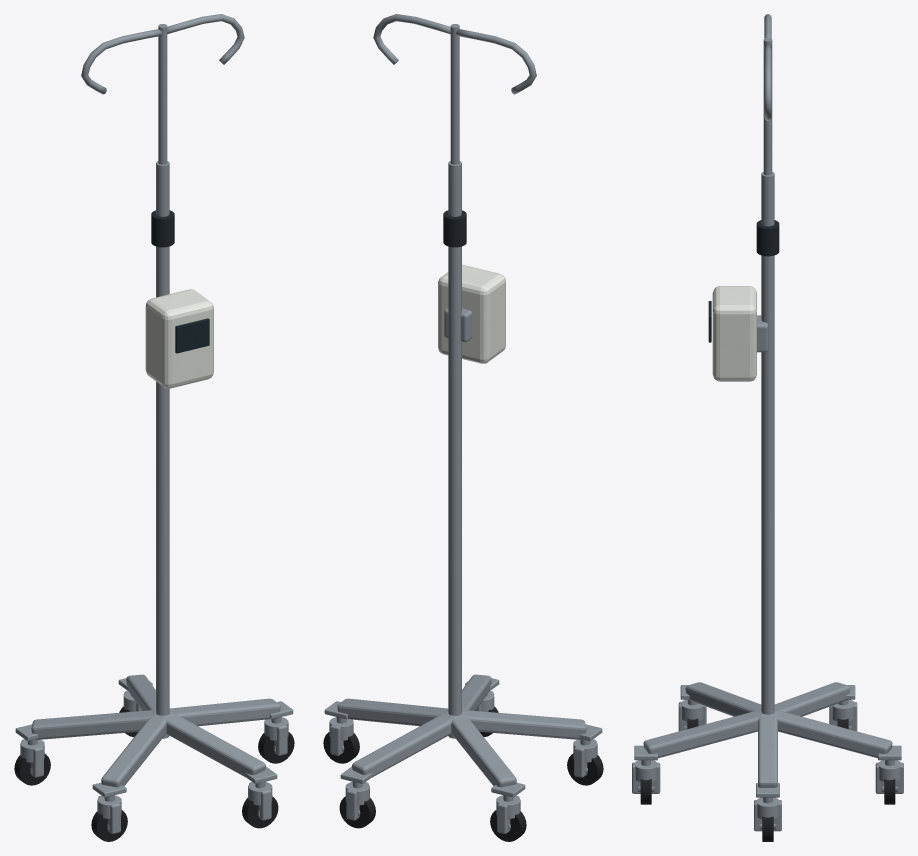
File: iv-stand.glb
The picture shows the model from 3 angles, left to right: view 1: azimuth 30°, elevation 25°; view 2: azimuth 150°, elevation 25°; view 3: azimuth 270°, elevation 25°; orthographic projection. The views are drawn at different scales.
Visible parts, largest first — view 1: IV main mast, Infusion pump, Radial base spoke.002, Radial base spoke.004, Radial base spoke, Radial base spoke.003, IV telescoping upper, Pump status window, Infusion bag hook.001, Infusion bag hook, Radial base spoke.001, Pole adjustment collar (+4 smaller); view 2: IV main mast, Infusion pump, Radial base spoke.003, Radial base spoke.001, Radial base spoke, Radial base spoke.002, IV telescoping upper, Infusion bag hook.001, Infusion bag hook, Radial base spoke.004, Pole adjustment collar, Cast polyurethane wheel (+4 smaller); view 3: IV main mast, Infusion pump, Radial base spoke.001, Radial base spoke.004, Radial base spoke, Radial base spoke.002, Radial base spoke.003, IV telescoping upper, Pole adjustment collar, Infusion bag hook.
Boxes of the visible parts, <box> form: IV main mast: <box>156,161,169,738</box>; Infusion pump: <box>145,289,213,388</box>; Radial base spoke.002: <box>31,710,159,739</box>; Radial base spoke.004: <box>159,711,265,777</box>; Radial base spoke: <box>168,698,280,726</box>; Radial base spoke.003: <box>101,713,168,787</box>; IV telescoping upper: <box>158,24,167,164</box>; Pump status window: <box>175,318,209,353</box>; Infusion bag hook.001: <box>81,29,162,94</box>; Infusion bag hook: <box>167,14,244,64</box>; Radial base spoke.001: <box>126,674,169,712</box>; Pole adjustment collar: <box>151,210,174,247</box>; IV main mast: <box>448,161,461,738</box>; Infusion pump: <box>438,264,505,363</box>; Radial base spoke.003: <box>458,710,586,739</box>; Radial base spoke.001: <box>352,711,458,777</box>; Radial base spoke: <box>337,698,449,726</box>; Radial base spoke.002: <box>449,713,516,787</box>; IV telescoping upper: <box>450,24,459,164</box>; Infusion bag hook.001: <box>455,29,536,94</box>; Infusion bag hook: <box>373,14,450,64</box>; Radial base spoke.004: <box>448,674,491,712</box>; Pole adjustment collar: <box>443,210,466,247</box>; Cast polyurethane wheel: <box>323,732,359,763</box>; IV main mast: <box>761,172,774,714</box>; Infusion pump: <box>712,286,756,381</box>; Radial base spoke.001: <box>768,709,892,758</box>; Radial base spoke.004: <box>643,709,767,758</box>; Radial base spoke: <box>758,713,777,787</box>; Radial base spoke.002: <box>774,682,850,716</box>; Radial base spoke.003: <box>685,682,761,716</box>; IV telescoping upper: <box>763,37,772,175</box>; Pole adjustment collar: <box>756,220,779,256</box>; Infusion bag hook: <box>764,44,771,120</box>.
Bounding box in the file's own units: 0.6046 × 1.86 × 0.6156.
Materials: 5 (5 with a texture image).
